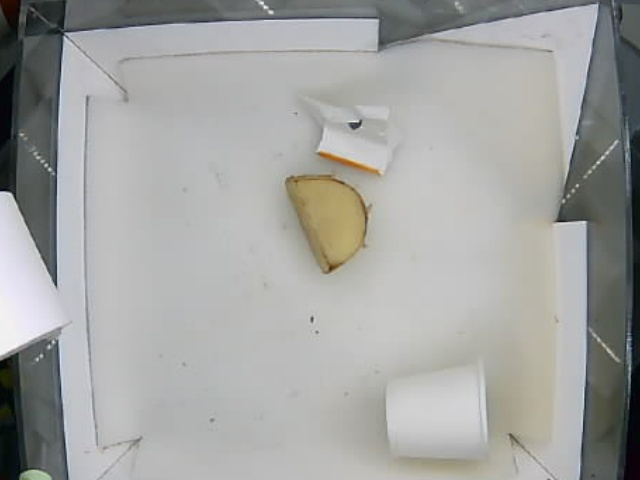China: (301, 96, 407, 178)
Cup: (386, 360, 493, 460)
Potato: (283, 174, 367, 273)
